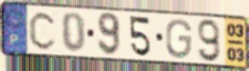0: (60, 11, 88, 55)
5: (129, 15, 152, 58)
9: (96, 11, 122, 59), (196, 17, 223, 63)
C: (28, 10, 59, 52)
G: (165, 18, 193, 60)
